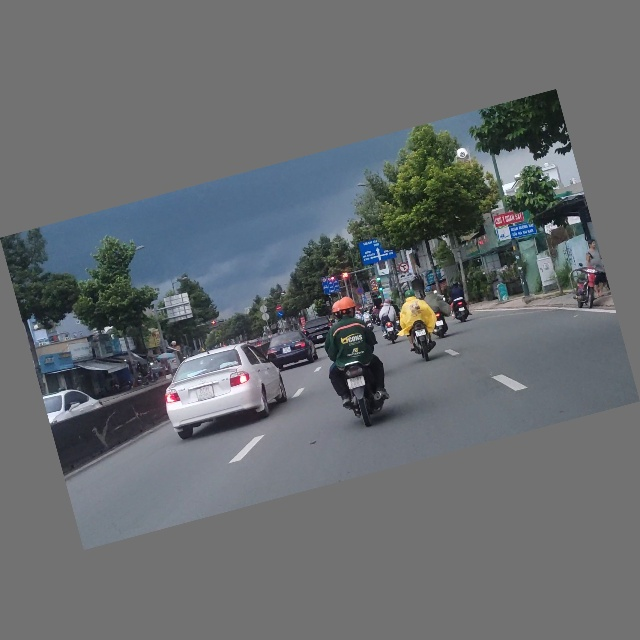P.102: (275, 305, 283, 312)
P.137: (398, 262, 410, 275)
R.302a: (277, 312, 283, 318)
R.415a: (322, 279, 341, 296)
